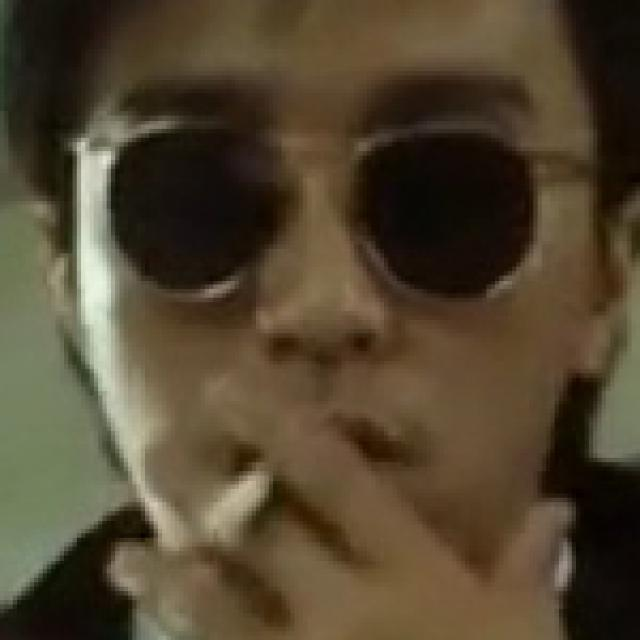smoking: (201, 460, 282, 550)
